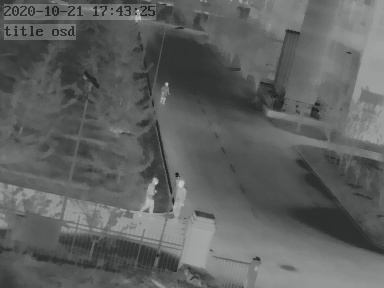person: (170, 175, 187, 217), (140, 174, 157, 215), (160, 80, 170, 105), (134, 7, 142, 24)
